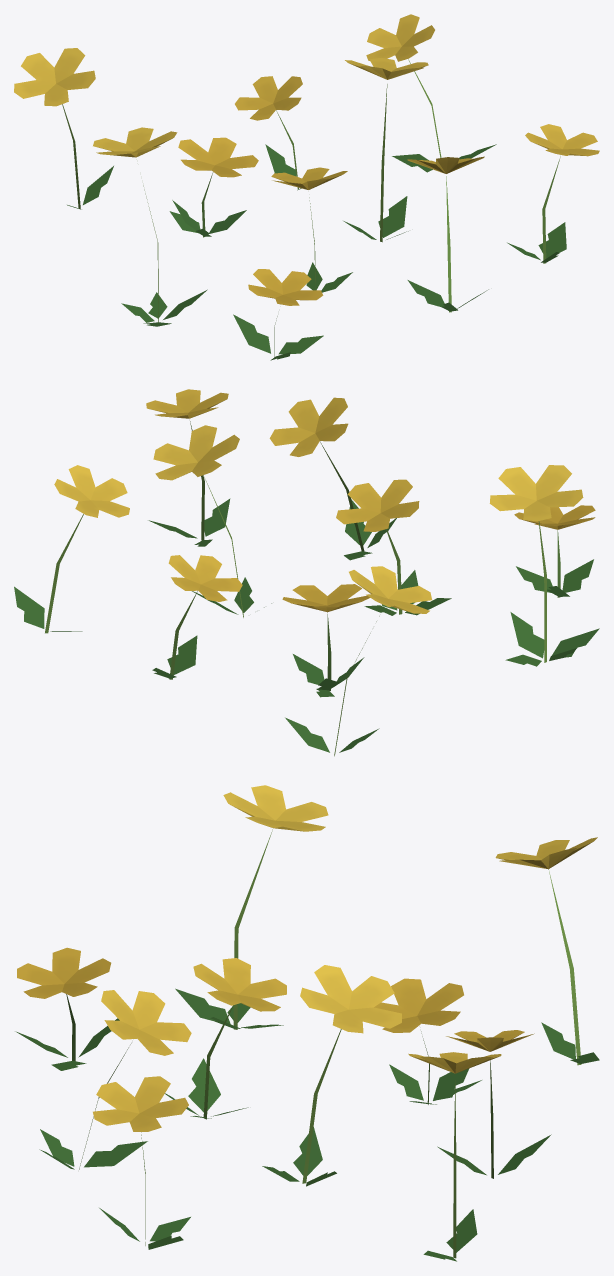
The model's file is flower_scatter_2.glb.
3 renders of one model, top to bottom at view 1: azimuth 30°, elevation 25°; view 2: azimuth 150°, elevation 25°; view 3: azimuth 270°, elevation 25°, orthographic. The views are drawn at different scales.
Visible parts, largest first — view 1: flower_scatter_2; view 2: flower_scatter_2; view 3: flower_scatter_2.
Part boxes in pixels (<box>): flower_scatter_2: <box>14,14,599,360</box>; flower_scatter_2: <box>14,389,599,756</box>; flower_scatter_2: <box>15,785,599,1261</box>.
Bounding box in the file's own units: 0.8 × 0.3 × 0.7.
Materials: 2 (2 with a texture image).
